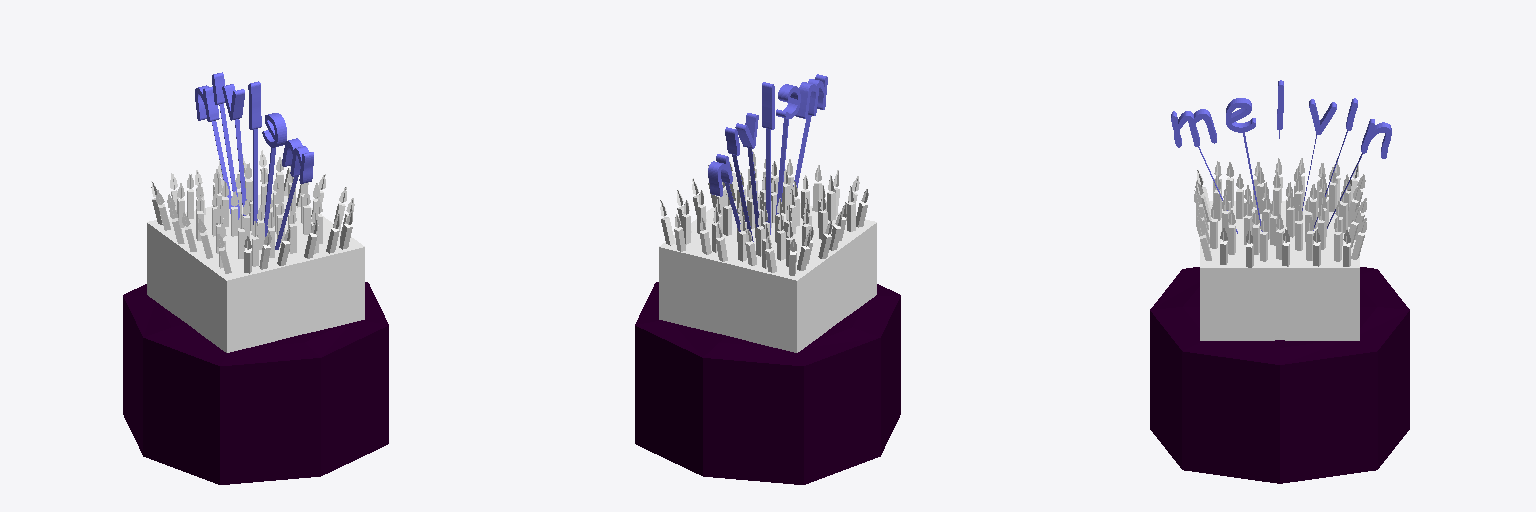
File: cake.obj
3 views of the same model, side by side, from view 1: azimuth 30°, elevation 25°; view 2: azimuth 150°, elevation 25°; view 3: azimuth 270°, elevation 25° (orthographic).
Parts seen in each view (by area): view 1: cake.obj; view 2: cake.obj; view 3: cake.obj.
Part boxes in pixels (x1,y1,x2,y2): cake.obj: (123, 72, 388, 484); cake.obj: (635, 74, 900, 484); cake.obj: (1150, 80, 1409, 483).
Bounding box in the file's own units: 1.62 × 2.38 × 1.62.